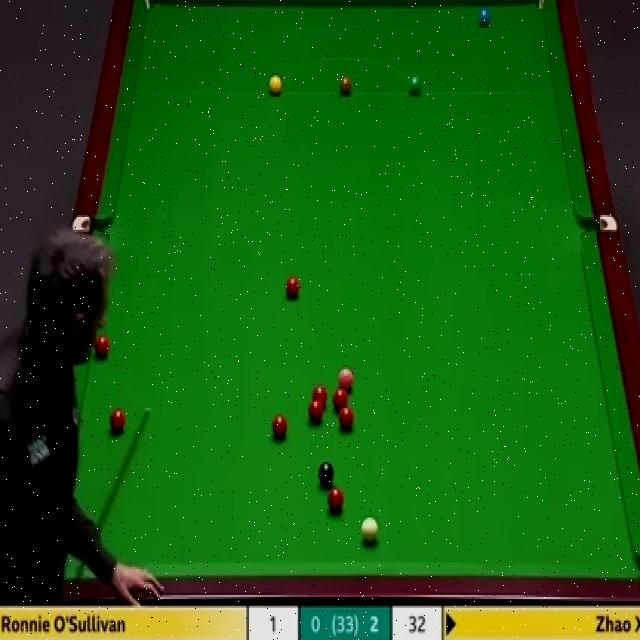black-ball: (318, 460, 336, 491)
blue-ball: (477, 2, 493, 28)
brown-ball: (339, 76, 353, 98)
green-ball: (408, 75, 422, 98)
pink-ball: (335, 366, 354, 392)
red-ball: (109, 407, 127, 437), (327, 487, 346, 514), (284, 274, 302, 300), (307, 400, 324, 426), (93, 334, 109, 360), (310, 385, 328, 408), (272, 414, 287, 441), (339, 406, 354, 430), (332, 389, 349, 410)
white-ball: (360, 517, 378, 547)
yellow-ball: (268, 74, 283, 97)
